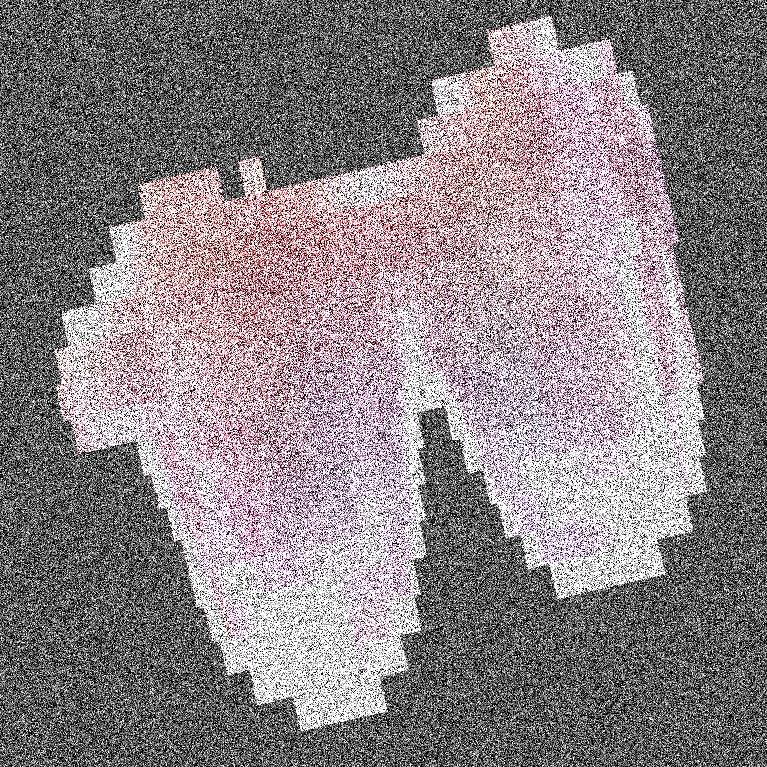Oculos: (439, 0, 633, 766)
